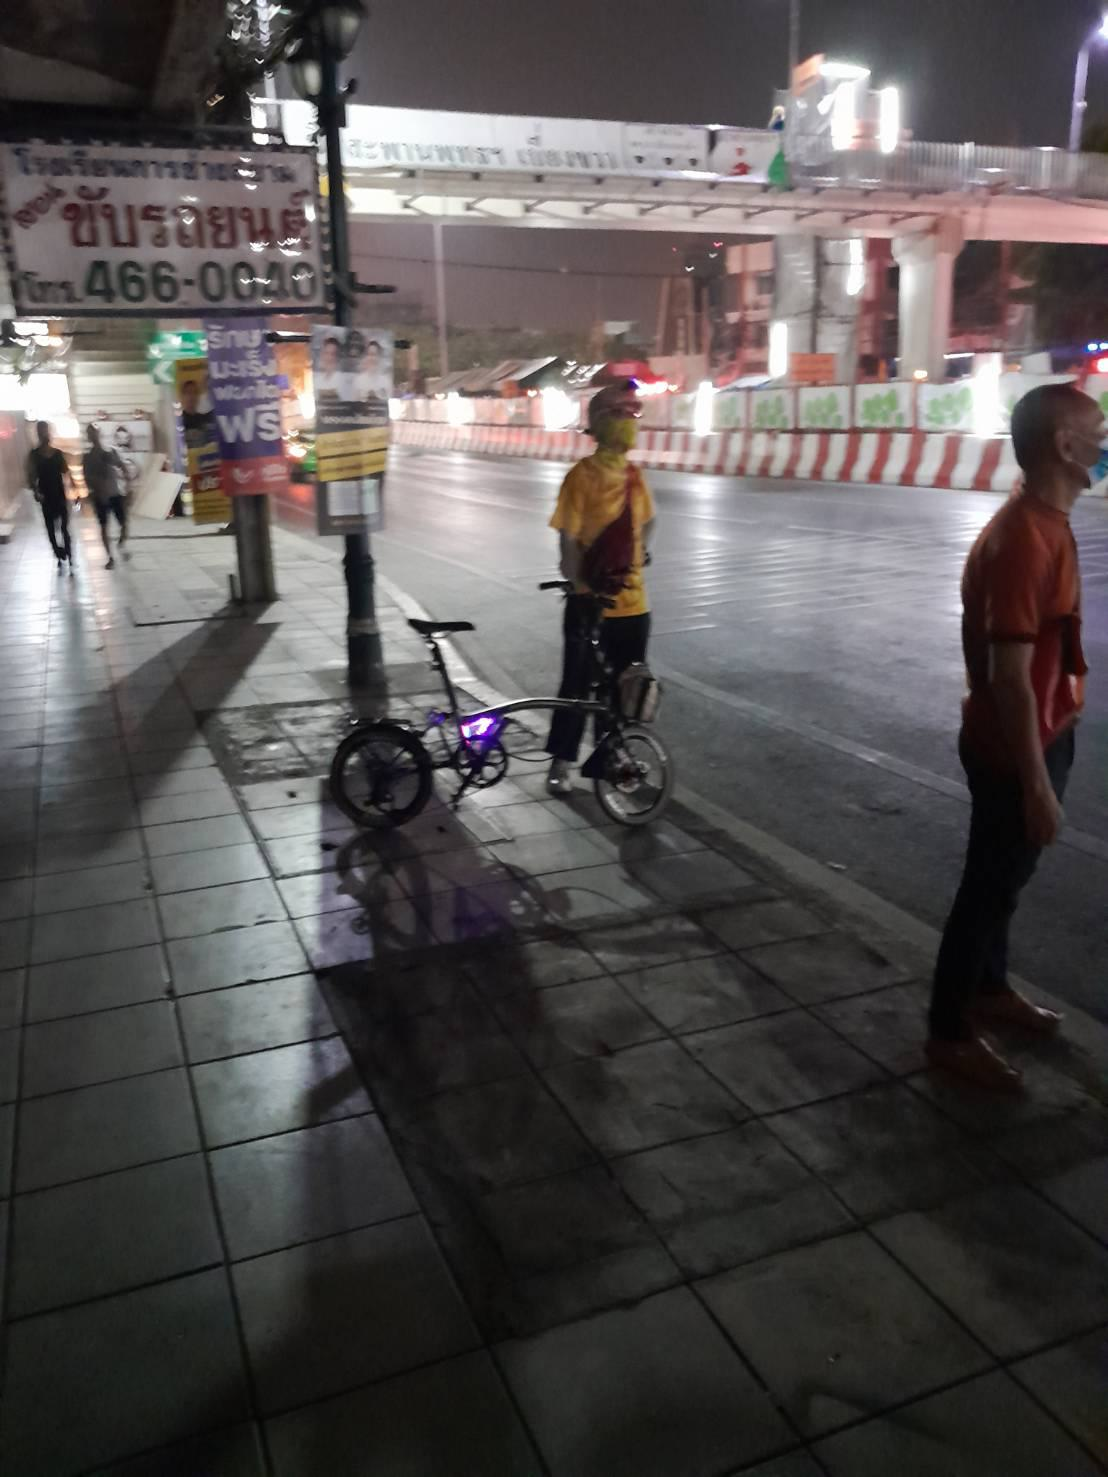Banner: (312, 322, 388, 527), (203, 317, 280, 493)
